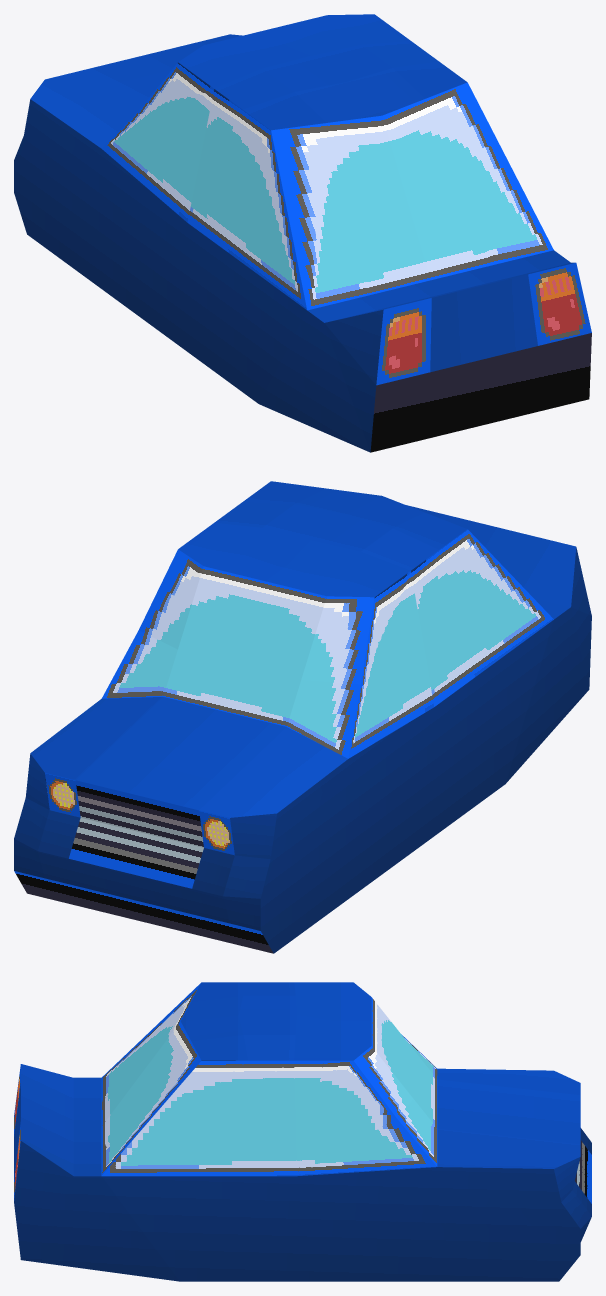
File: rally_car_prototype_small.glb
The picture shows the model from 3 angles, top to bottom: view 1: azimuth 30°, elevation 25°; view 2: azimuth 150°, elevation 25°; view 3: azimuth 270°, elevation 25°; orthographic projection. The views are drawn at different scales.
Parts seen in each view (by area): view 1: Cube; view 2: Cube; view 3: Cube.
Boxes of the visible parts, x1,y1,x2,y2 form: Cube: (14, 14, 591, 452); Cube: (14, 481, 591, 953); Cube: (14, 982, 591, 1281).
Bounding box in the file's own units: 2 × 2.06 × 4.97.
Materials: 1 (1 with a texture image).
